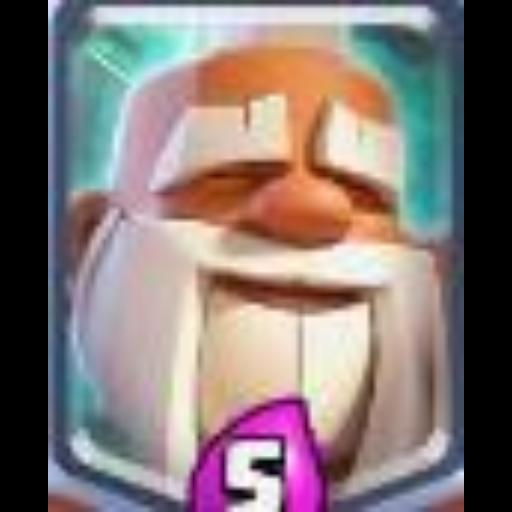monk: (48, 0, 464, 512)
